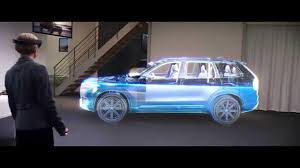hololens: (11, 37, 43, 51)
